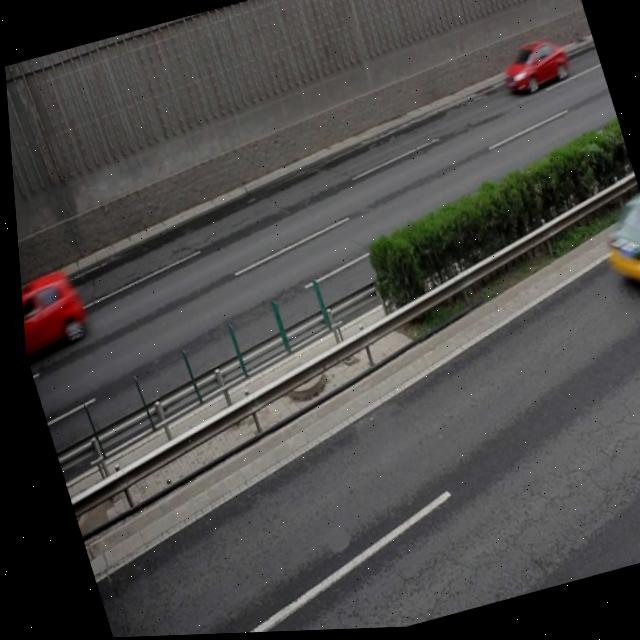car: (491, 38, 571, 103)
